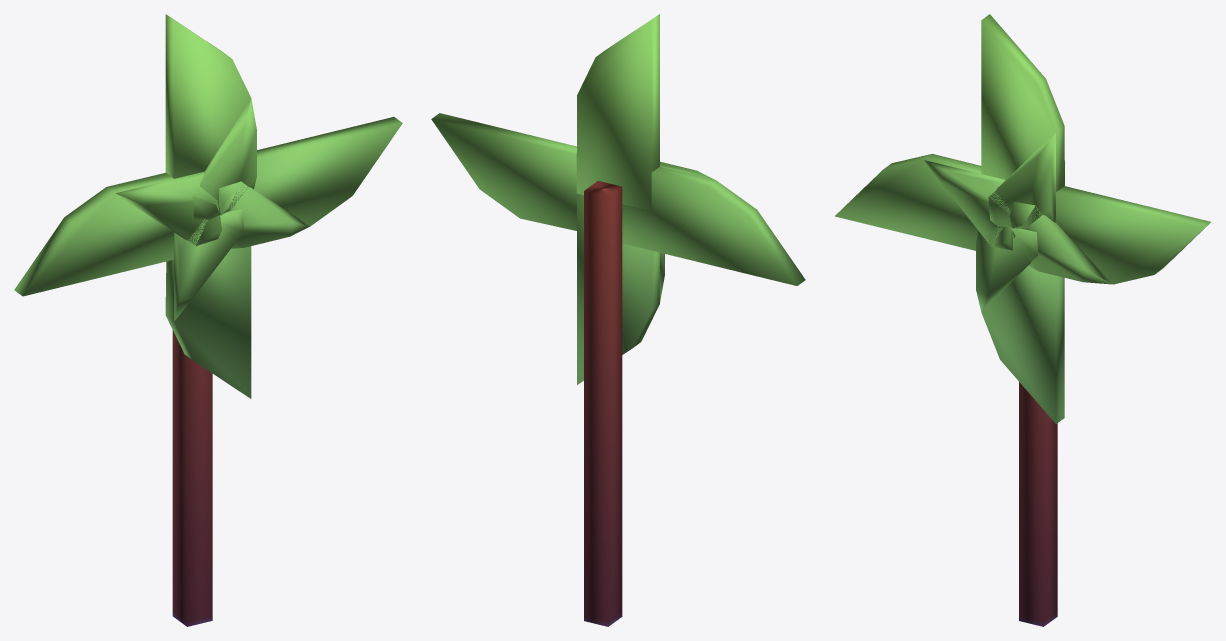
The model's file is PinWheel_Green.fbx.
The picture shows the model from 3 angles, left to right: view 1: azimuth 30°, elevation 25°; view 2: azimuth 150°, elevation 25°; view 3: azimuth 330°, elevation 25°; orthographic projection. The views are drawn at different scales.
Visible parts, largest first — view 1: PinWheel_Green, Pinwheel_Green; view 2: PinWheel_Green, Pinwheel_Green; view 3: PinWheel_Green, Pinwheel_Green.
Part boxes in pixels (bbox=[...]): PinWheel_Green: bbox=[14, 14, 402, 398]; Pinwheel_Green: bbox=[172, 330, 212, 626]; PinWheel_Green: bbox=[431, 14, 805, 384]; Pinwheel_Green: bbox=[584, 180, 622, 626]; PinWheel_Green: bbox=[834, 14, 1210, 423]; Pinwheel_Green: bbox=[1019, 382, 1057, 626].
Bounding box in the file's own units: 986 × 1543 × 168.
